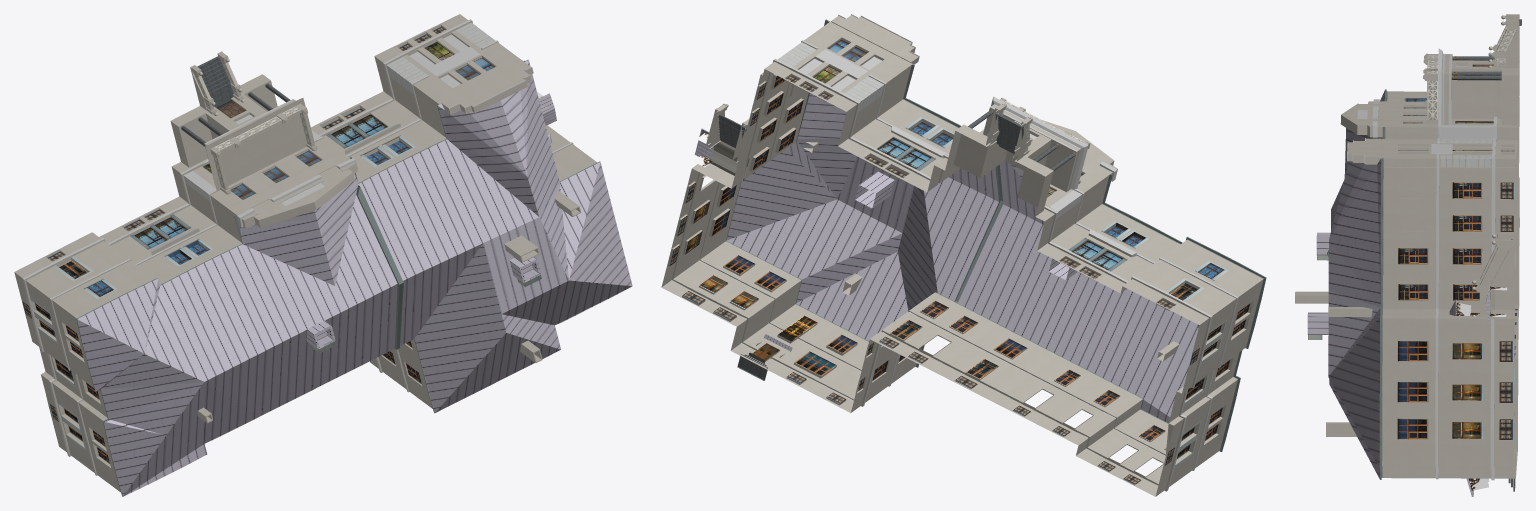
File: Wismari7.obj
3 renders of one model, left to right at view 1: azimuth 30°, elevation 25°; view 2: azimuth 150°, elevation 25°; view 3: azimuth 270°, elevation 25°, orthographic. The views are drawn at different scales.
Visible parts, largest first — view 1: W7_MainBuilding; view 2: W7_MainBuilding; view 3: W7_MainBuilding.
Part boxes in pixels (x1,y1,x2,y2): W7_MainBuilding: [14, 14, 632, 496]; W7_MainBuilding: [661, 14, 1266, 496]; W7_MainBuilding: [1295, 14, 1521, 496].
Bounding box in the file's own units: 53.08 × 32.77 × 18.4.
